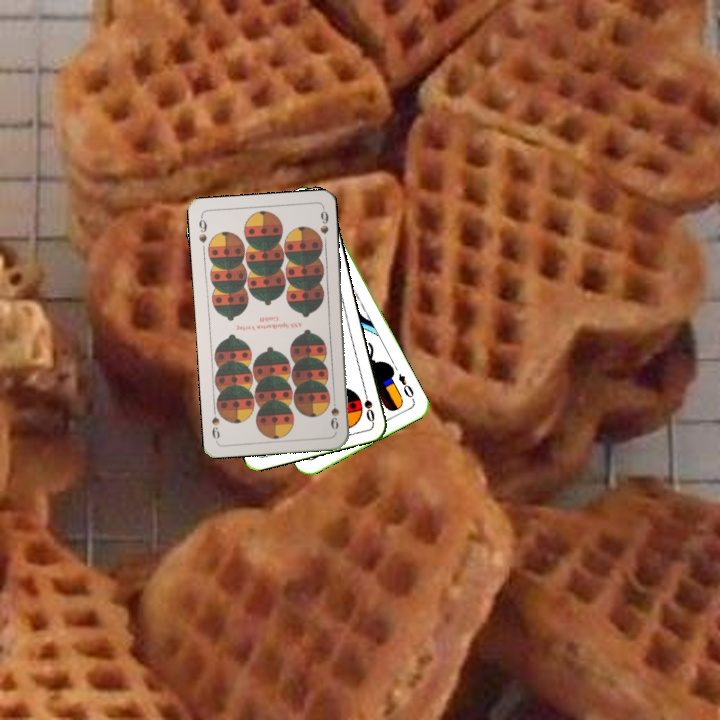EO: (394, 369, 417, 404)
S9: (327, 393, 341, 432), (195, 213, 209, 246)
SO: (359, 385, 377, 425)
